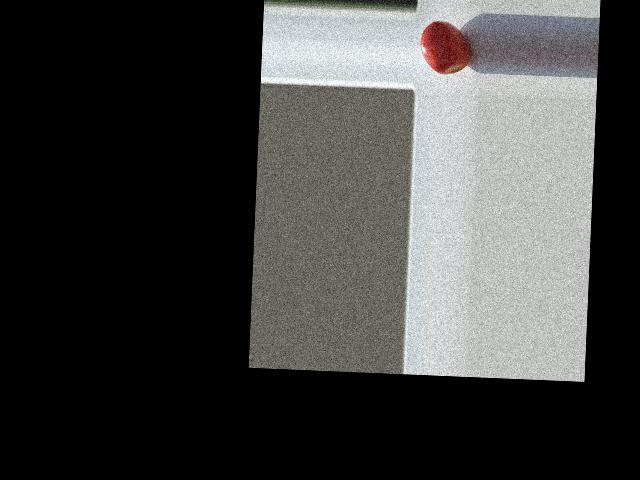tomato: (419, 20, 471, 75)
